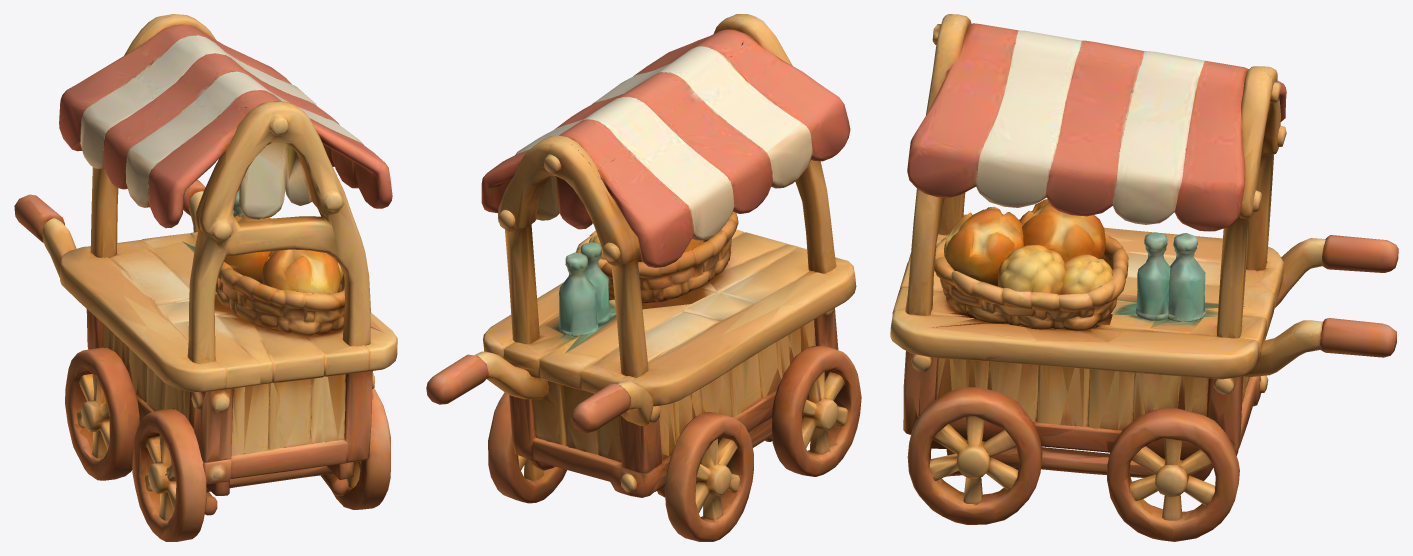
Rendered from P05-bakery-food-cart.glb.
The picture shows the model from 3 angles, left to right: view 1: azimuth 30°, elevation 25°; view 2: azimuth 150°, elevation 25°; view 3: azimuth 270°, elevation 25°; orthographic projection. The views are drawn at different scales.
Parts seen in each view (by area): view 1: P05-bakery-food-cart; view 2: P05-bakery-food-cart; view 3: P05-bakery-food-cart.
Boxes of the visible parts, <box> form: P05-bakery-food-cart: <box>14,14,397,541</box>; P05-bakery-food-cart: <box>426,14,861,541</box>; P05-bakery-food-cart: <box>890,14,1398,541</box>.
Bounding box in the file's own units: 1.11 × 1.9 × 1.9.
Materials: 1 (1 with a texture image).
